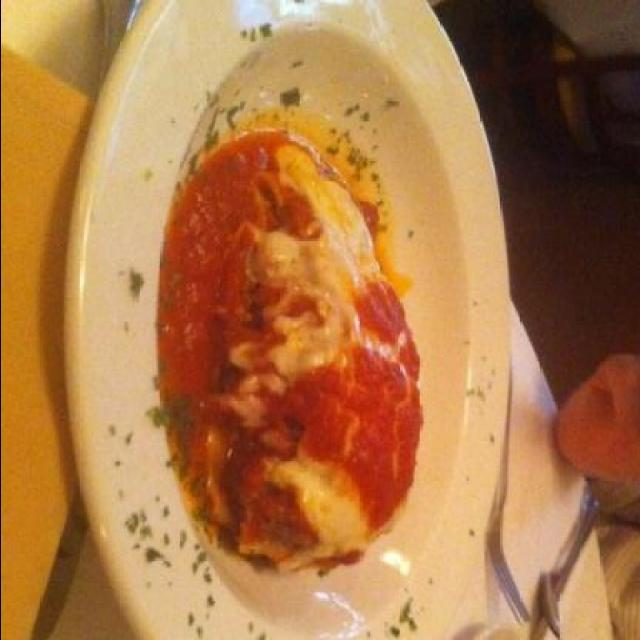Lasagna: (158, 160, 434, 560)
